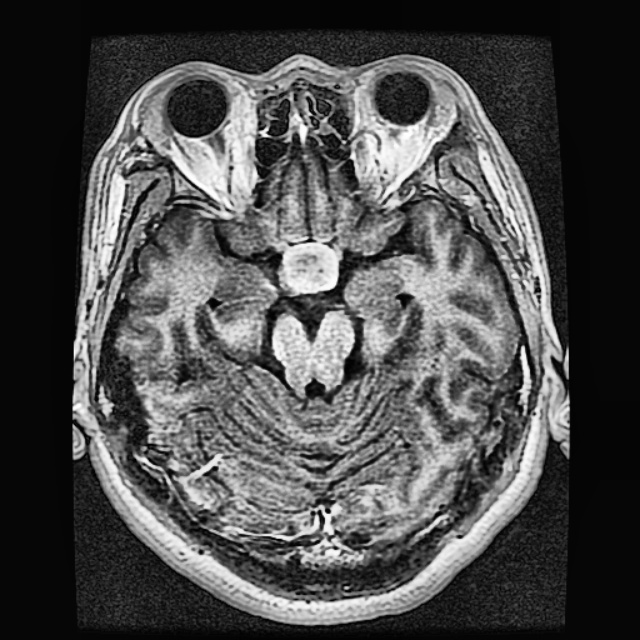Pituitary: (278, 243, 339, 295)
